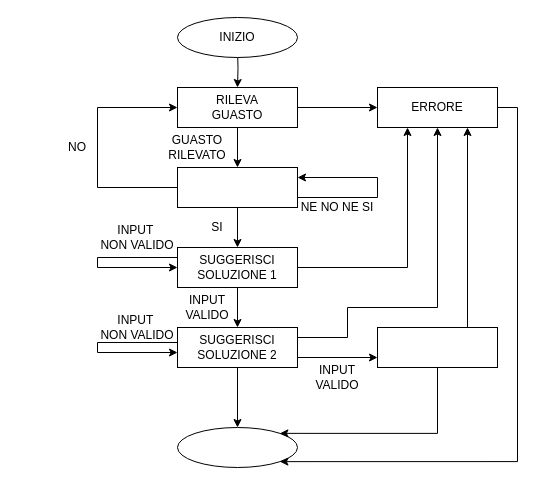
This 543x488 diagram has some shape labels left out. The shapes that lost their labels are listed below. From the top down, each one's centre as x and y in pixels, then its label:
point 237,187: CONFERMA
point 437,347: CONTATTA SPECIALISTA
point 237,447: FINE
